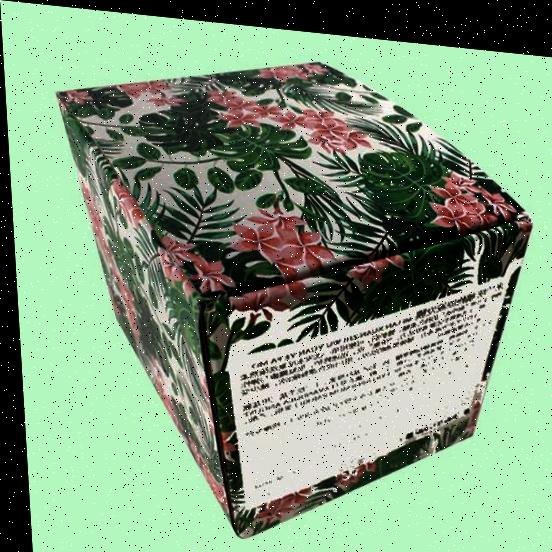cube: (53, 30, 547, 552)
